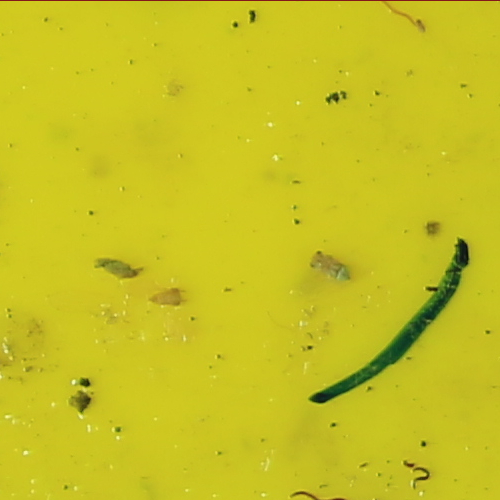Glycaspis: (307, 248, 355, 288), (94, 257, 143, 285)
Platyobria: (150, 283, 187, 307)
